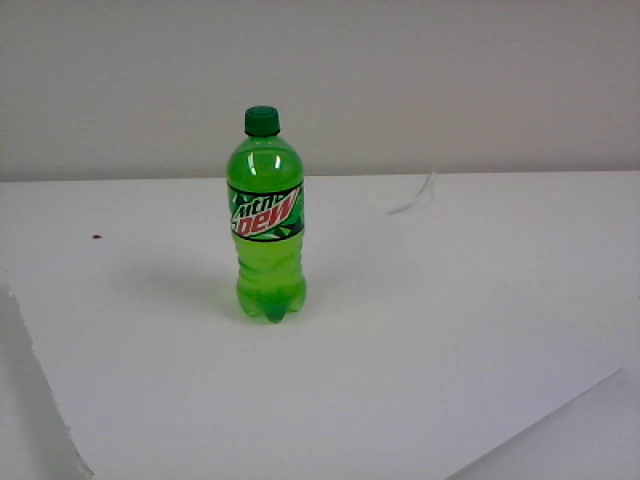botolplastik: (227, 106, 304, 322)
